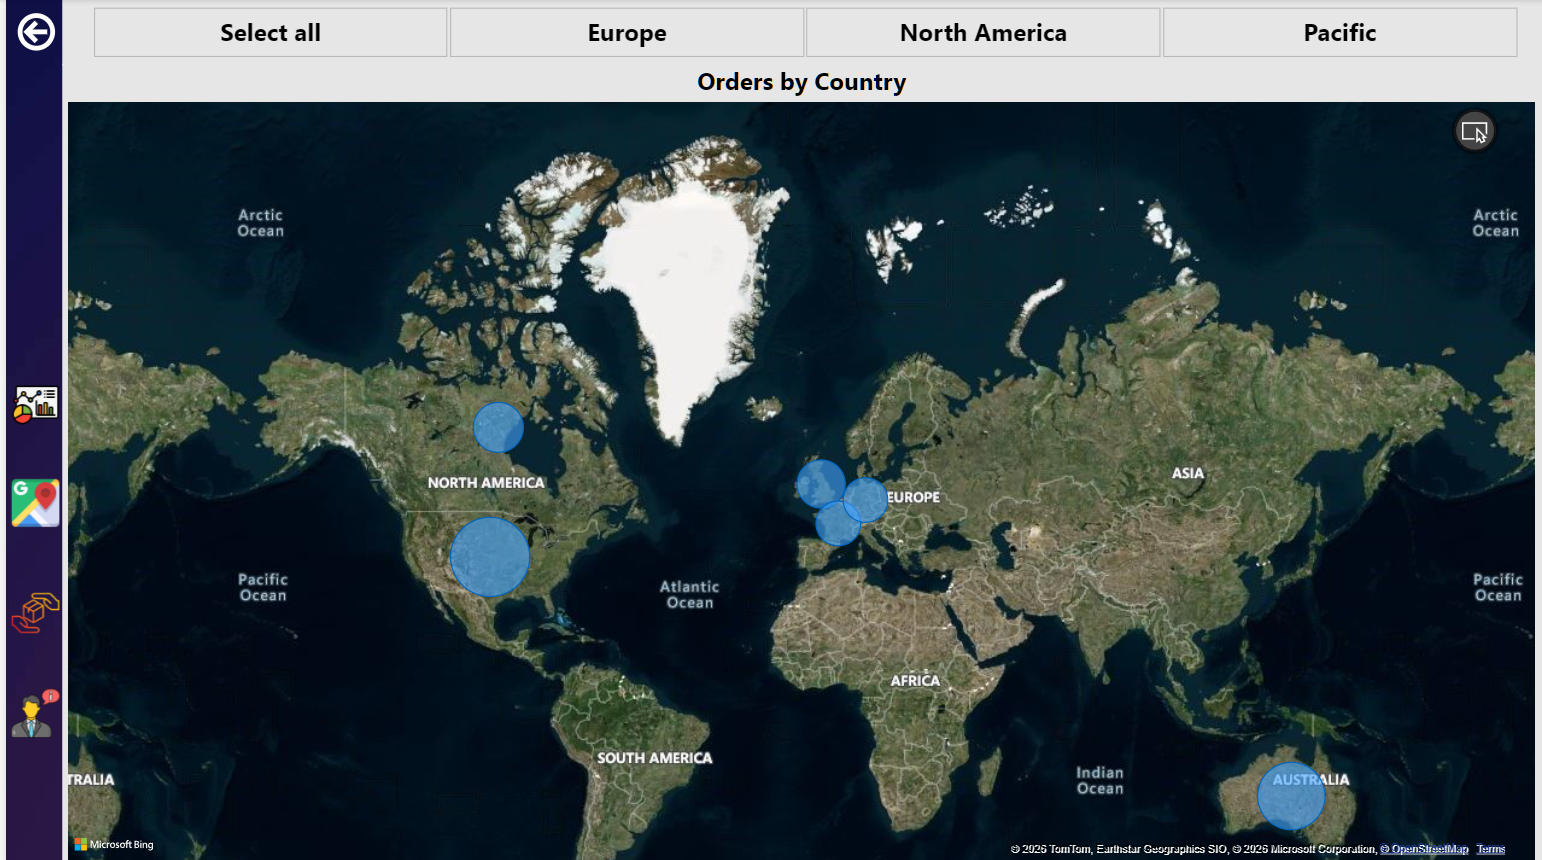

What the dashboard file says about the page in this screenshot:
{"tool":"powerbi","page":{"name":"Map","canvas":[1280,720],"ordinal":1},"visuals":[{"type":"map","title":"Orders by Country","fields":{"Category":["Territory Lookup.Country"],"Size":["Table Measure.Total Orders"]},"box":[46.2,53.8,1226.2,666.2],"z":0},{"type":"shape","title":"Left Nav Bar","box":[0,0,48,720.3],"z":1000},{"type":"actionButton","box":[0,560,100,65],"z":1000,"group":"g1"},{"type":"actionButton","box":[0,483.3,100,52.5],"z":1500,"group":"g1"},{"type":"slicer","fields":{"Values":["Territory Lookup.Territory Hierarchy.Continent"]},"box":[46.2,0,1230,55],"z":2000},{"type":"actionButton","box":[0,392.1,100,52.5],"z":2000,"group":"g1"},{"type":"group","id":"g1","title":"Navigation","box":[0,298.8,100,326.2],"z":2001},{"type":"actionButton","box":[5,7.5,82.5,40],"z":2002},{"type":"actionButton","box":[0,298.8,100,76.2],"z":4000,"group":"g1"}]}

Visuals, with their boxes on the page's 1280x720 design canvas (x1, y1, x2, y2). These are canvas units, not pixel positions in the 1542x860 screenshot, which may show the page scaled, cropped or inside an application window:
"Orders by Country" map: Rect(46, 54, 1272, 720)
"Left Nav Bar" shape: Rect(0, 0, 48, 720)
actionButton: Rect(0, 560, 100, 625)
actionButton: Rect(0, 483, 100, 536)
slicer - Territory Lookup.Territory Hierarchy.Continent: Rect(46, 0, 1276, 55)
actionButton: Rect(0, 392, 100, 445)
"Navigation" group: Rect(0, 299, 100, 625)
actionButton: Rect(5, 8, 88, 48)
actionButton: Rect(0, 299, 100, 375)
